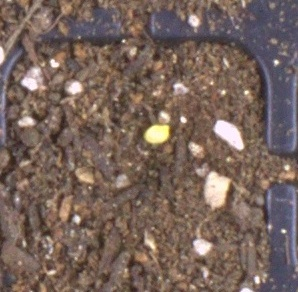chilli seed: (142, 122, 170, 144)
